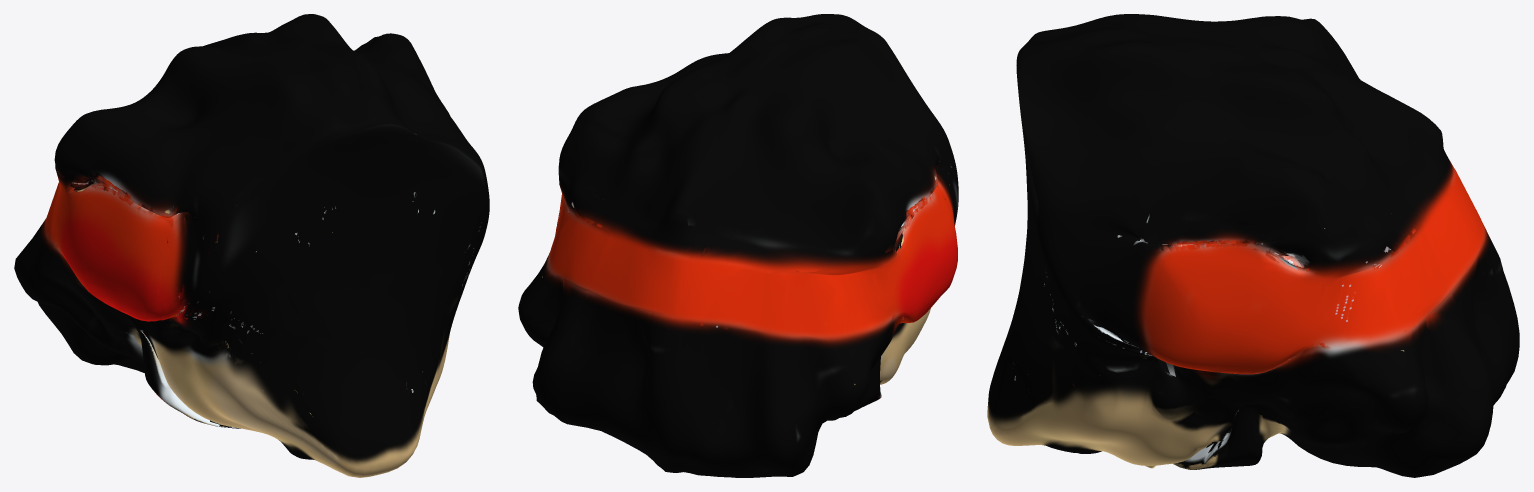
The model's file is TheTwoTimer.fbx.
3 renders of one model, left to right at view 1: azimuth 30°, elevation 25°; view 2: azimuth 150°, elevation 25°; view 3: azimuth 270°, elevation 25°, orthographic. The views are drawn at different scales.
Parts seen in each view (by area): view 1: Quad Sphere; view 2: Quad Sphere; view 3: Quad Sphere.
Part boxes in pixels (<box>): Quad Sphere: <box>14,14,489,477</box>; Quad Sphere: <box>518,14,958,477</box>; Quad Sphere: <box>987,14,1519,477</box>.
Size of the model in its own units: 268 by 275 by 299.
